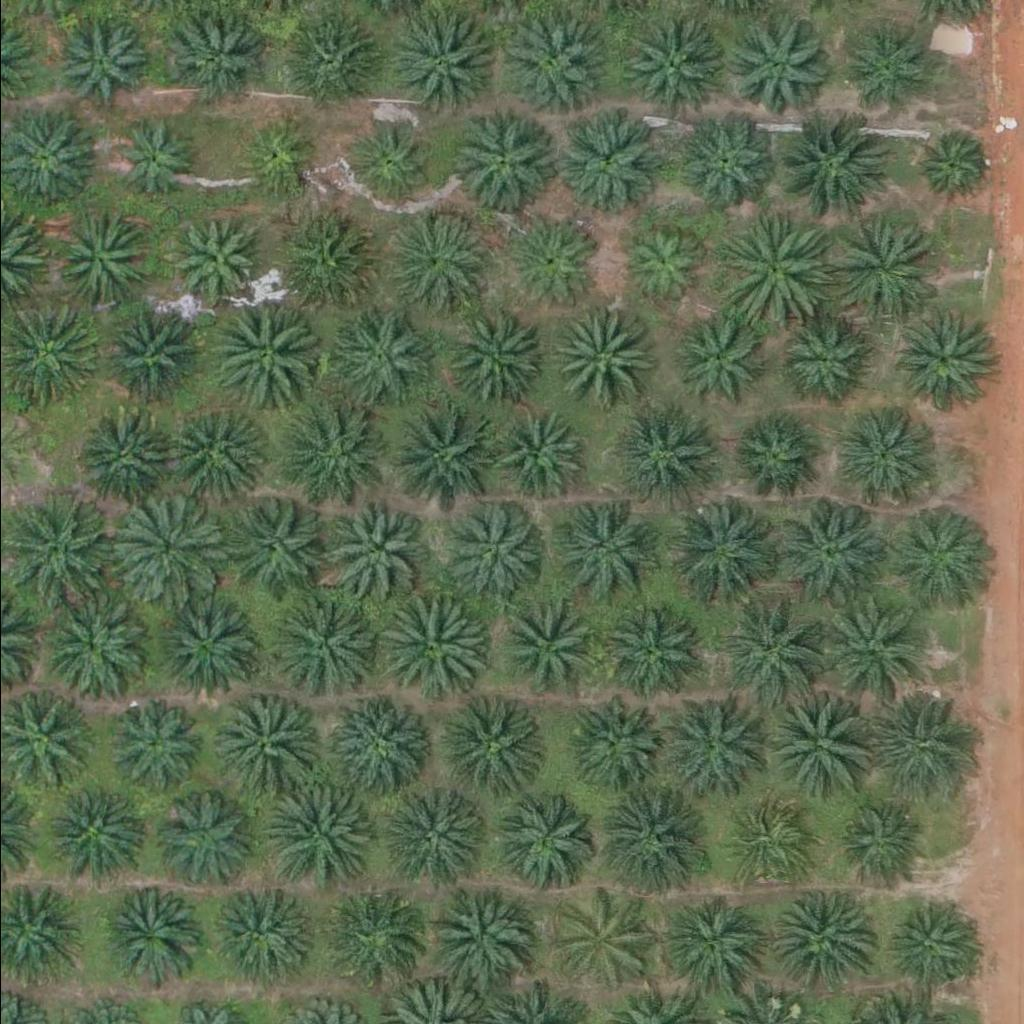Kelapa_Sawit: (765, 108, 879, 221), (666, 490, 780, 603), (817, 218, 930, 331), (210, 290, 323, 403), (772, 489, 885, 602), (372, 589, 485, 702), (817, 591, 930, 704), (761, 685, 874, 798), (265, 781, 378, 894), (713, 218, 827, 330), (554, 497, 668, 609), (374, 787, 488, 899), (498, 10, 611, 122), (383, 6, 496, 118), (383, 210, 496, 322), (383, 399, 496, 511), (881, 503, 994, 615), (111, 490, 224, 602), (268, 591, 381, 703), (713, 594, 826, 706), (854, 684, 967, 796), (593, 791, 706, 903), (426, 890, 539, 1002), (616, 12, 717, 112), (272, 7, 373, 107), (163, 12, 264, 112), (452, 110, 553, 210), (276, 222, 377, 322), (886, 310, 987, 410), (541, 305, 642, 405), (329, 304, 430, 404), (100, 295, 201, 395), (169, 398, 270, 498), (269, 408, 370, 508), (614, 404, 715, 504), (835, 408, 936, 508), (442, 502, 543, 602), (326, 499, 427, 599), (161, 597, 262, 697), (599, 599, 700, 699), (495, 598, 596, 698), (660, 695, 761, 795), (438, 692, 539, 792), (330, 698, 431, 798), (205, 697, 306, 797), (153, 790, 254, 890), (494, 797, 595, 897), (772, 891, 873, 991), (548, 888, 649, 988), (318, 883, 419, 983), (203, 887, 304, 987), (95, 888, 196, 988), (41, 784, 142, 884), (48, 207, 149, 307), (724, 23, 824, 123), (676, 110, 776, 210), (555, 112, 655, 212), (444, 310, 544, 410), (220, 492, 320, 592), (561, 692, 661, 792), (658, 890, 758, 990), (43, 597, 143, 697), (73, 399, 173, 499), (839, 25, 927, 113), (237, 116, 325, 204), (350, 116, 438, 204), (169, 211, 257, 299), (617, 225, 705, 313), (725, 799, 813, 887), (882, 904, 970, 992), (52, 14, 140, 102), (105, 111, 193, 198), (506, 220, 594, 307), (778, 314, 866, 401), (671, 318, 759, 405), (497, 409, 585, 496), (736, 412, 824, 499), (109, 700, 197, 787), (833, 797, 921, 884), (911, 128, 986, 203)
